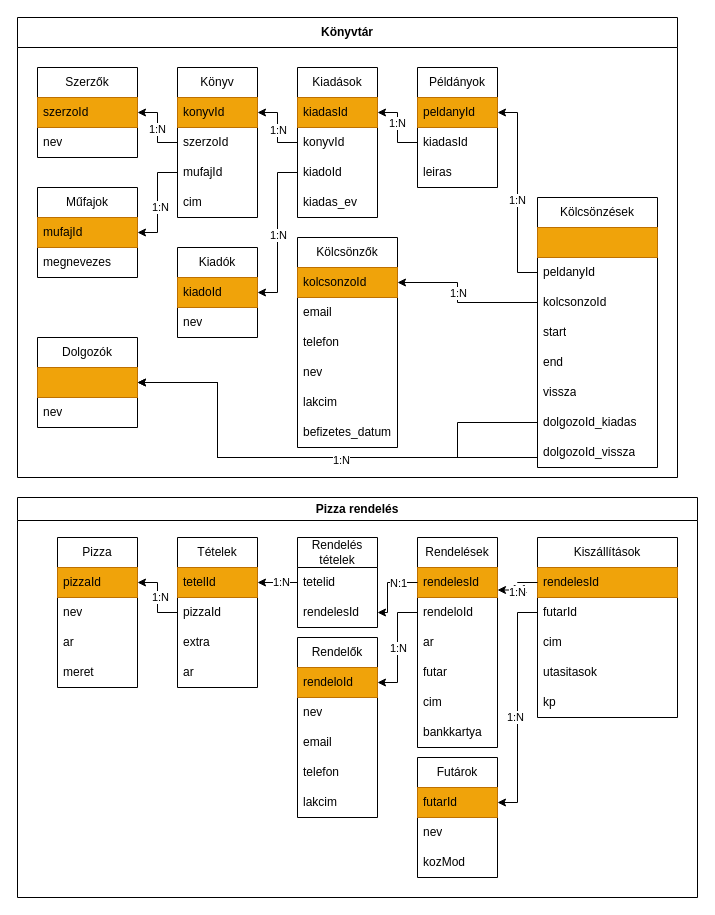
The diagram is 715 pixels wide and 915 high, and some of its shapes have lost their labels. The centre of each missing label's shape, as x and y in pixels:
dolgozoId: the point at 87,382
kolcsonzesId: the point at 597,242
